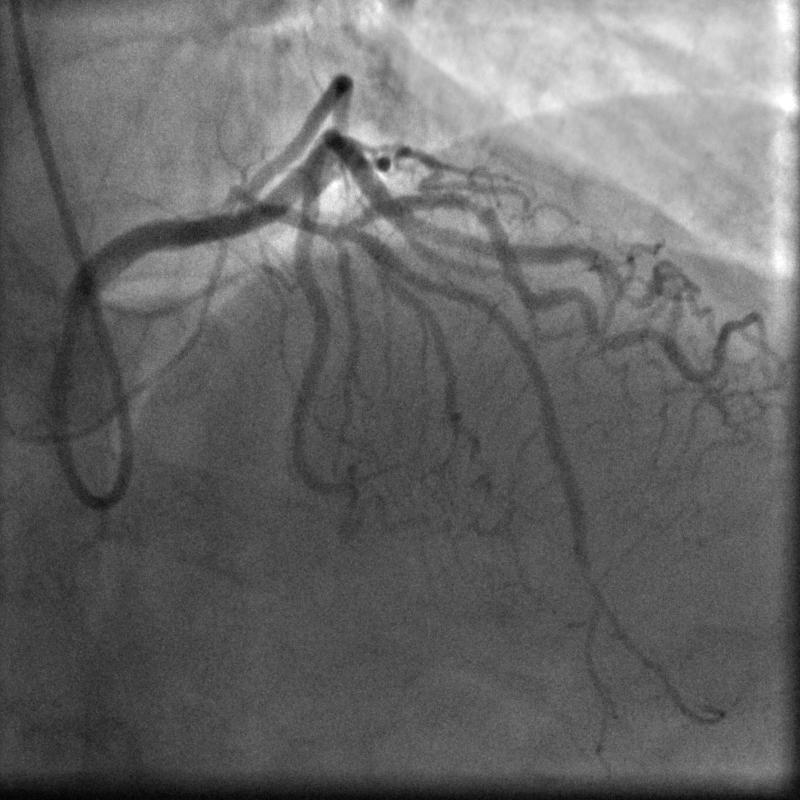Stenosis: (455, 183, 495, 227)
